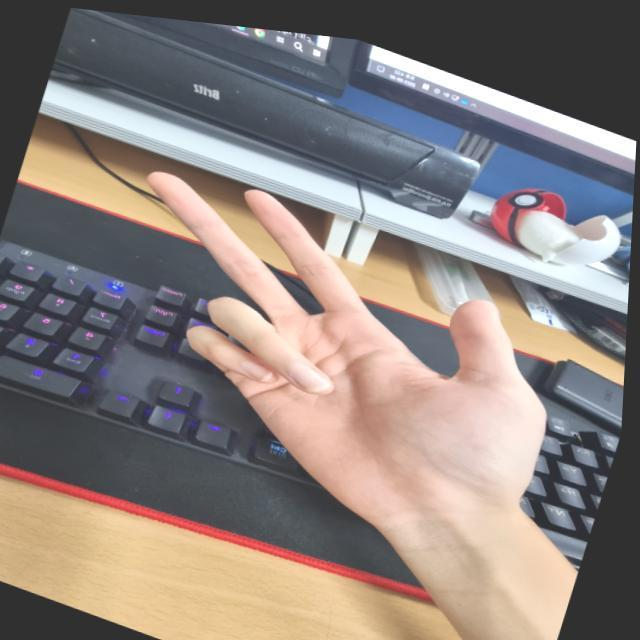keyboard-with-hands: (0, 236, 623, 567)
